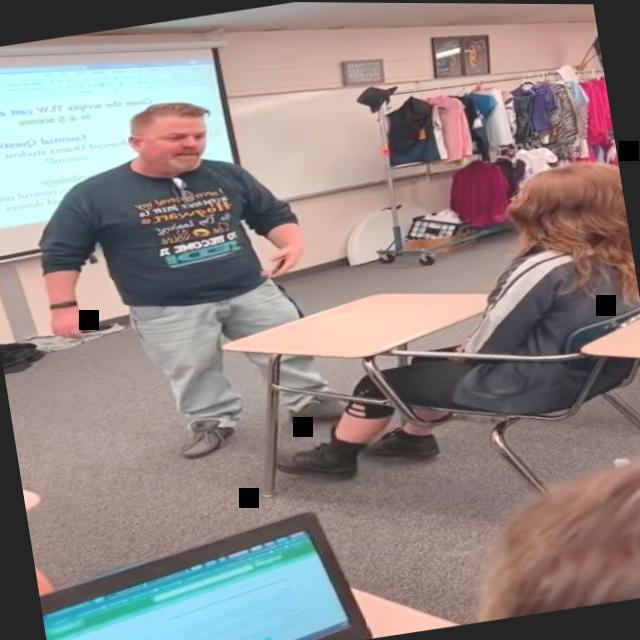NO-Mask: (125, 101, 218, 182)
